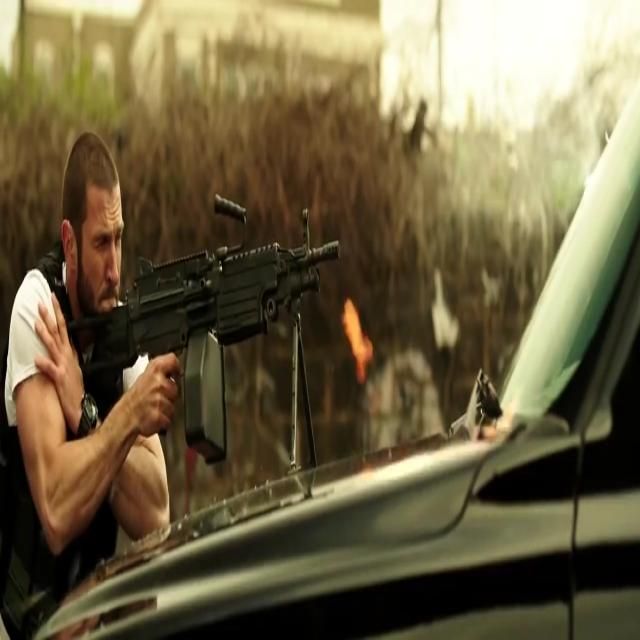Weapon: (62, 202, 333, 435)
